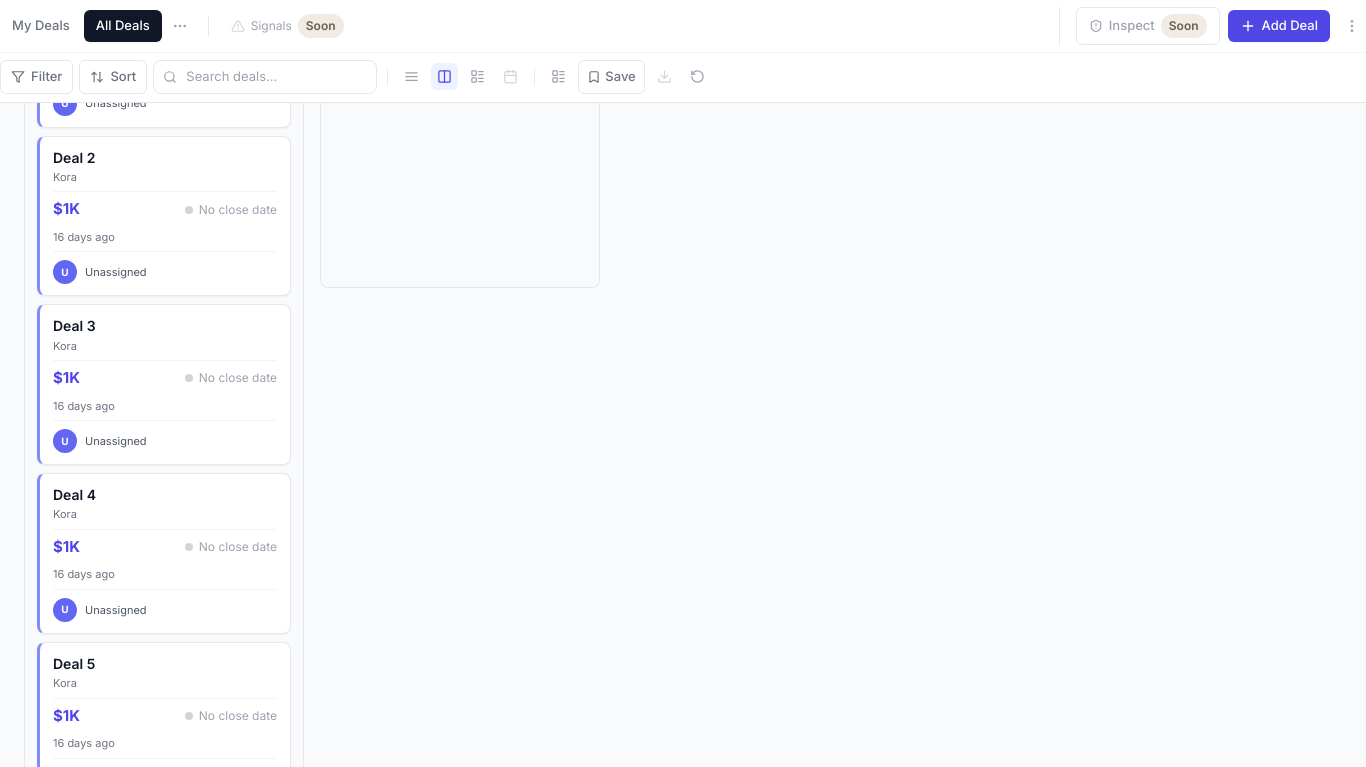
Test: Deals board — delete is real › a refusal (e.g. 403 for sales) is shown and the card stays
This screenshot has width=1366, height=767.
(page scrolled)
Right-click the button named "Deal: Deal 3,".
right_click(164, 385)  # box [37,304,291,465]
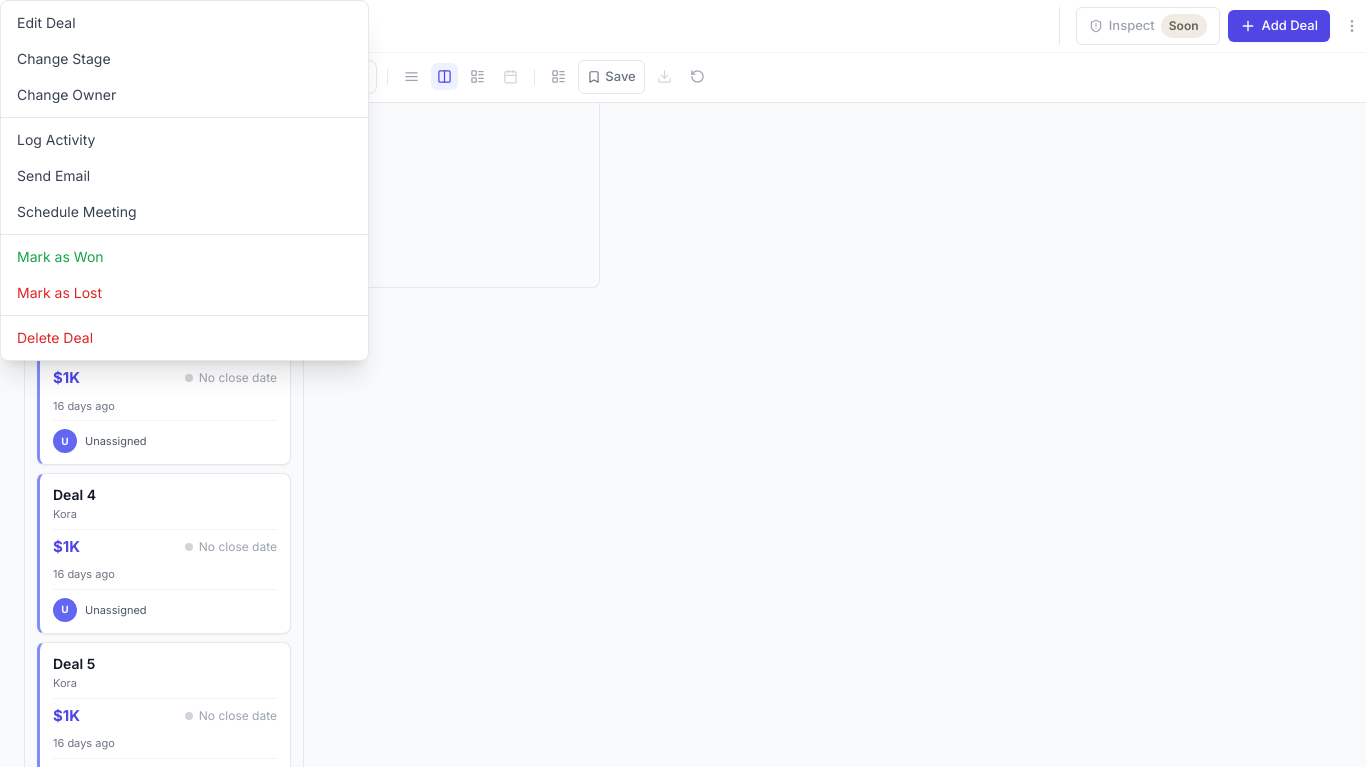
Click the button "Delete Deal".
click(55, 338)  # box [1,320,368,356]
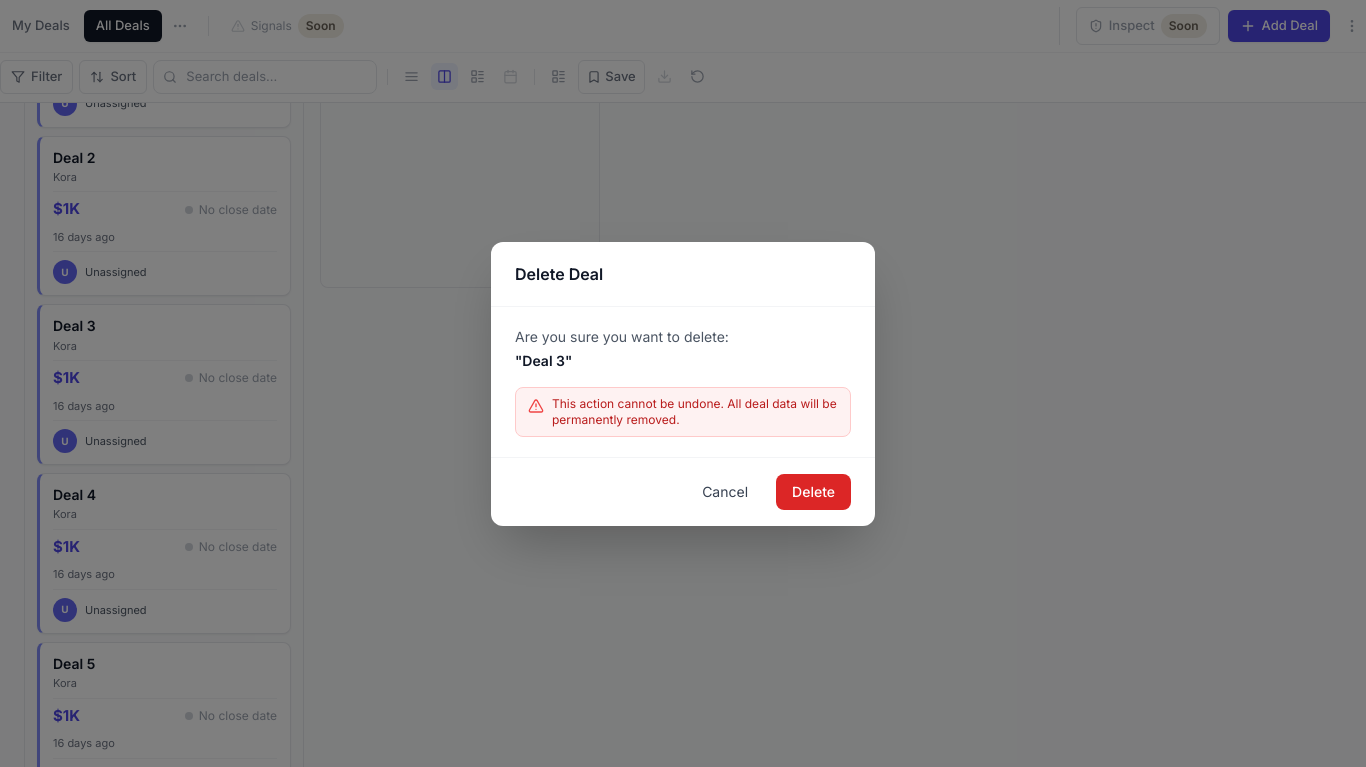
Click the button "Delete".
click(814, 492)  # box [776,474,851,510]
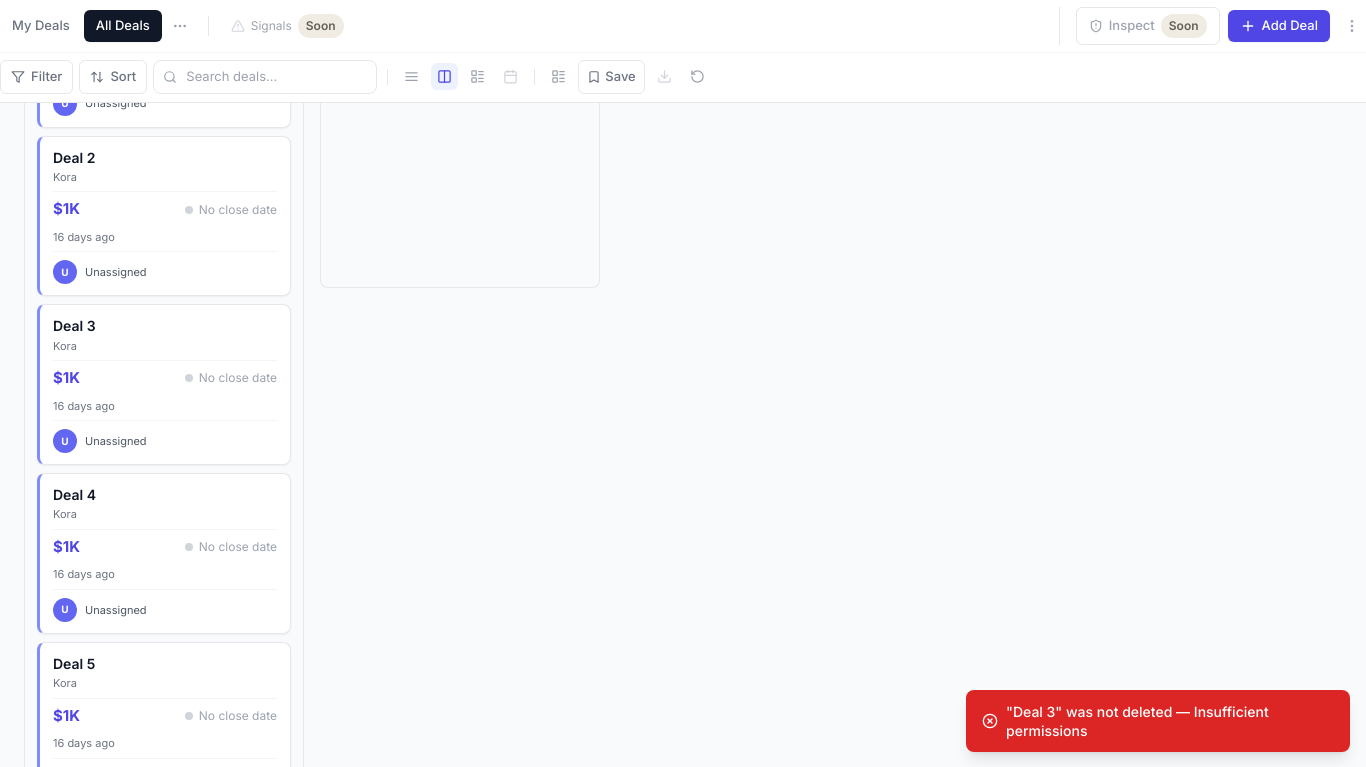
Expected: the element named "Deal: Deal 3," is shown, [37,304,291,465]
Result: the text "\"Deal 3\" was not deleted — Insufficient permissions" is shown at [1006,702,1269,739]
